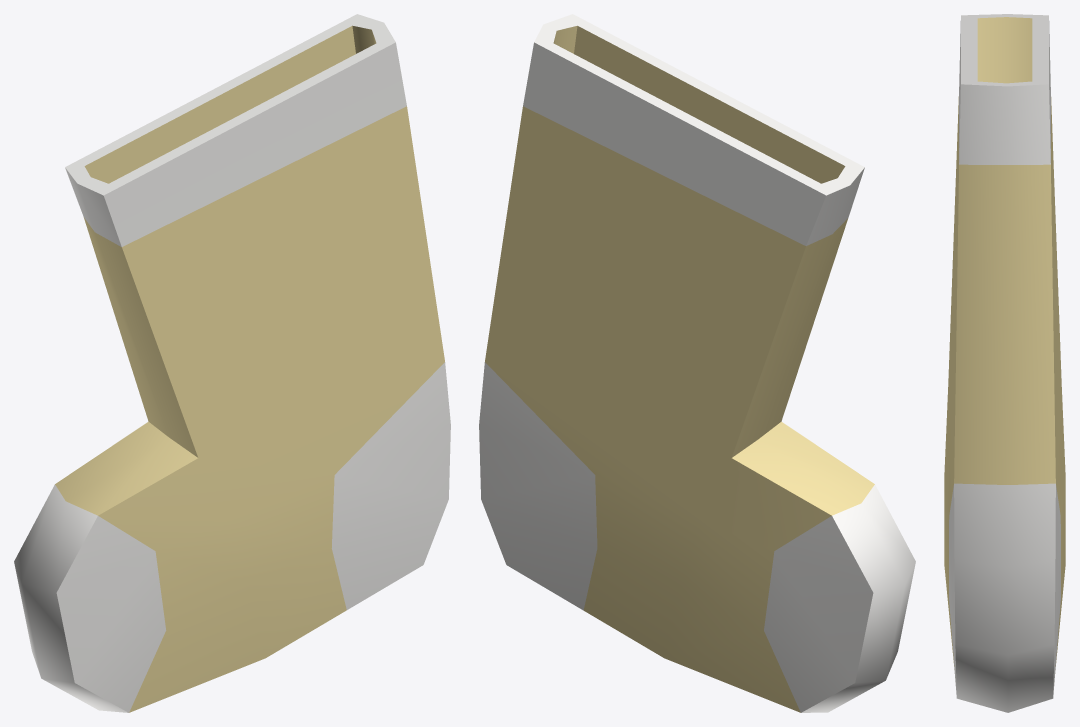
Rendered from Christmas_Sock_3.glb.
3 renders of one model, left to right at view 1: azimuth 30°, elevation 25°; view 2: azimuth 150°, elevation 25°; view 3: azimuth 270°, elevation 25°, orthographic. The views are drawn at different scales.
Parts seen in each view (by area): view 1: Sock_3; view 2: Sock_3; view 3: Sock_3.
Part boxes in pixels (x1,y1,x2,y2): Sock_3: [14, 14, 450, 712]; Sock_3: [479, 14, 915, 712]; Sock_3: [944, 14, 1065, 712].
Bounding box in the file's own units: 0.4719 × 0.6691 × 0.1047.
Materials: 1 (1 with a texture image).
